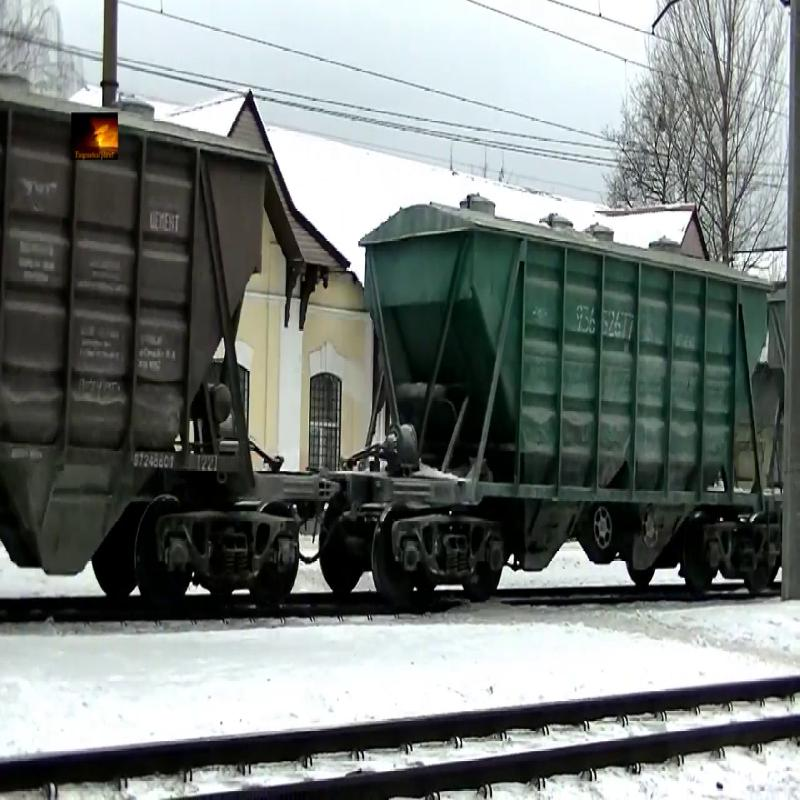train: (358, 213, 768, 609), (1, 124, 295, 594)
